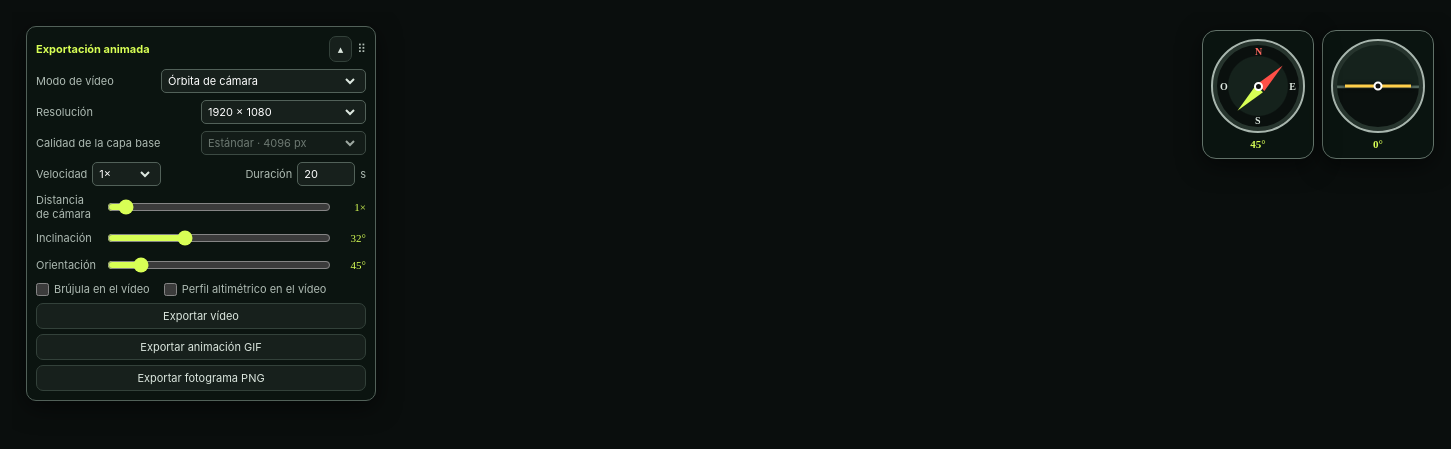
it: exportación del visor 3D › usa la resolución máxima por defecto y exporta un fotograma PNG
Expected: the dropdown labelled "Resolución" shows "1920 × 1080", [201,100,366,124]
Click the button "Exportar fotograma PNG" at {"x": 201, "y": 378}, box [36,365,366,391]
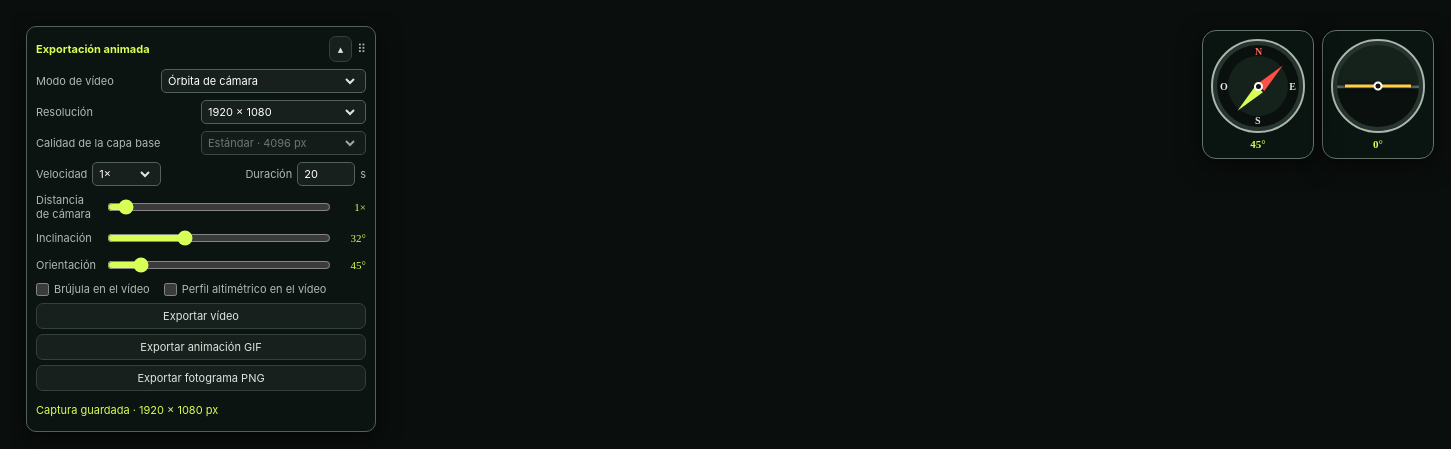
Expected: the text "Captura guardada · 1920 × 1080 px" is shown, [36,403,218,417]
